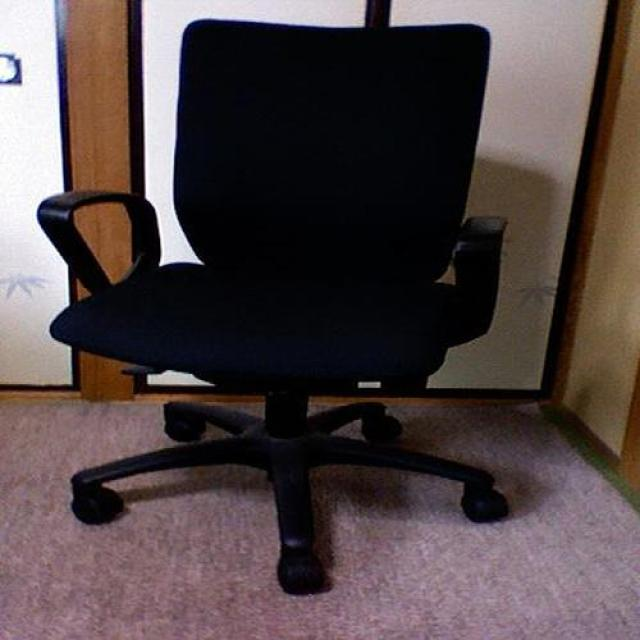swivelchair: (37, 19, 508, 598)
